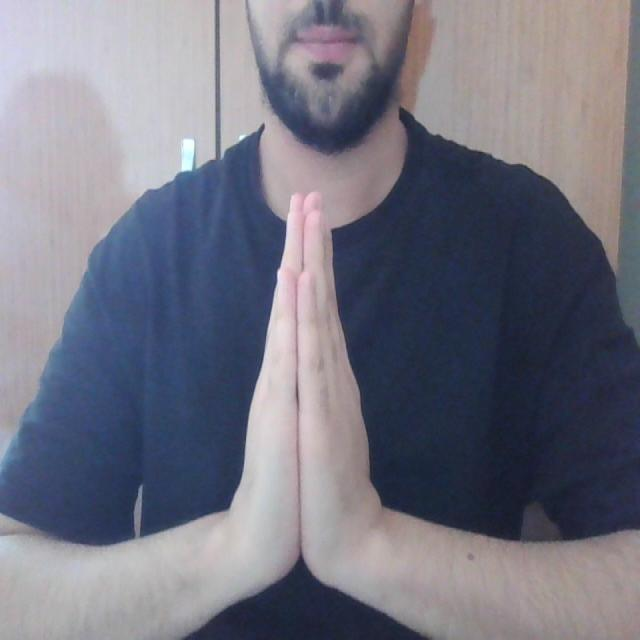Ozur-Dilemek: (216, 188, 394, 640)
